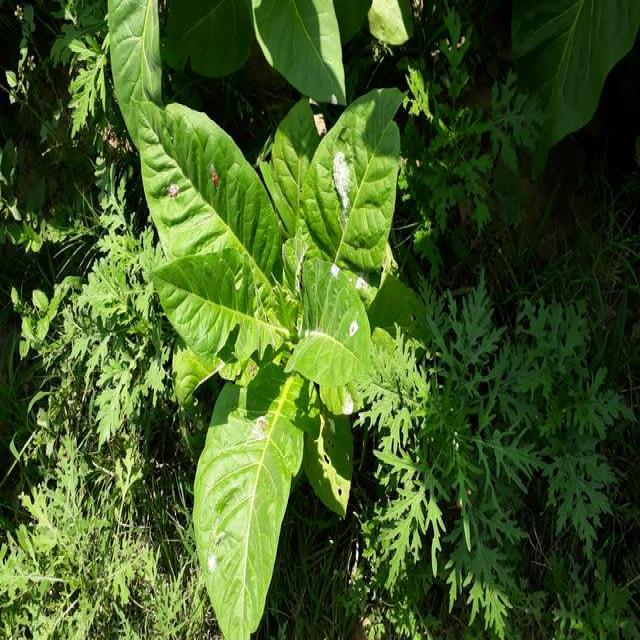crop: (128, 105, 393, 640)
